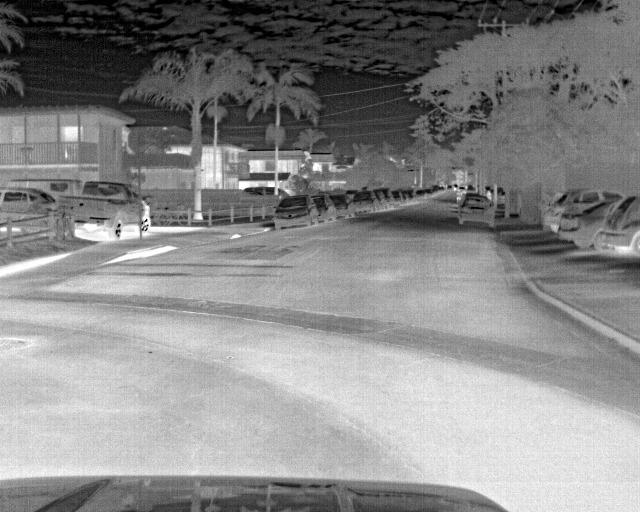car: (58, 179, 150, 237), (557, 196, 613, 251), (595, 196, 637, 261), (548, 193, 597, 236), (1, 186, 57, 220), (273, 194, 321, 230), (457, 192, 497, 230), (346, 192, 378, 218), (308, 193, 334, 223)
